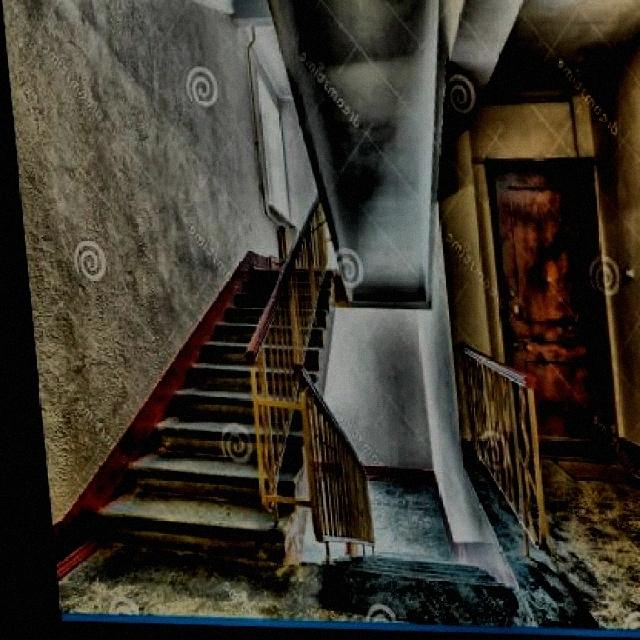stair: (66, 198, 302, 552)
